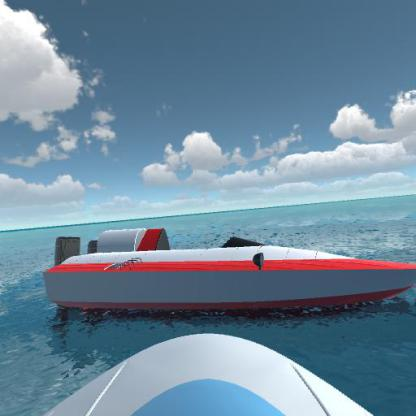usv3: (41, 215, 412, 322)
